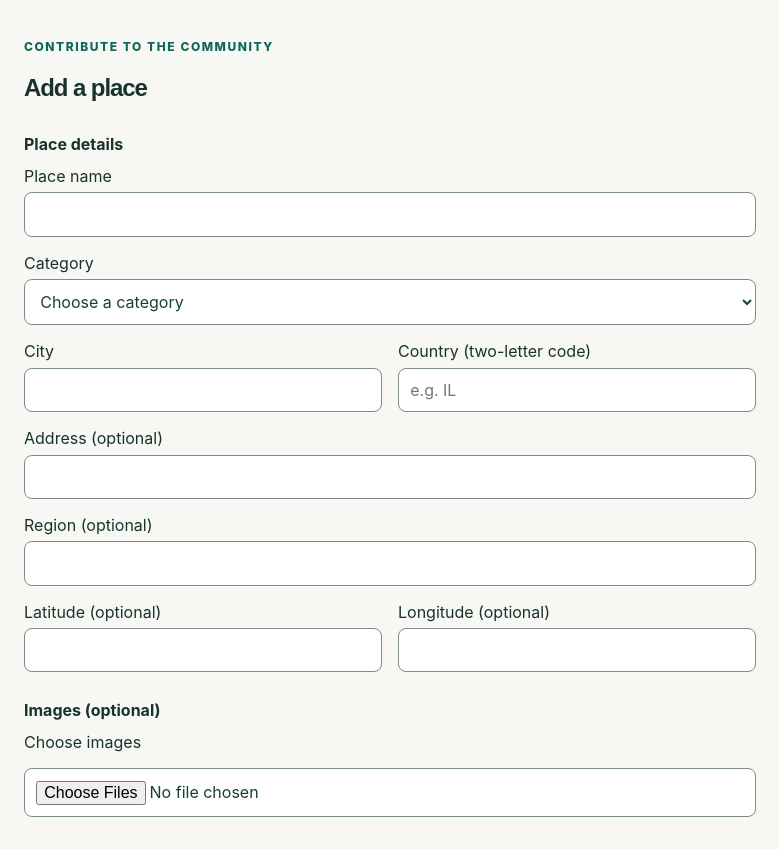
Scenario: duplicate results link to existing places without a client bypass or follow-up writes
Step 1. Type "New place" into the field labelled "Place name" → (390, 214), box [24,192,756,237]
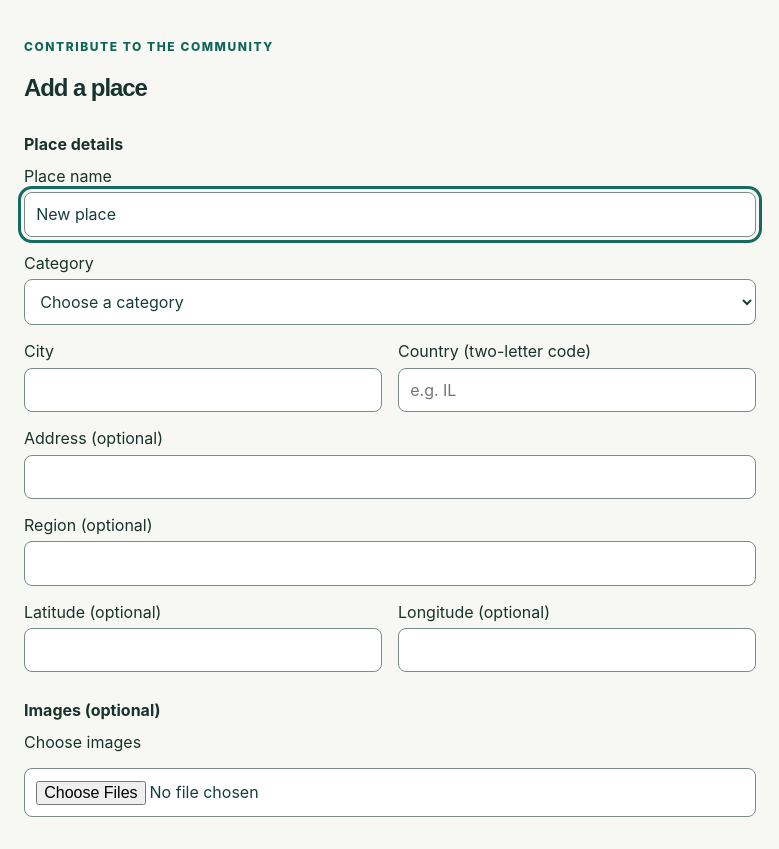
Step 2. Select "Configured category" in the dropdown labelled "Category" → (390, 302), box [24,279,756,325]
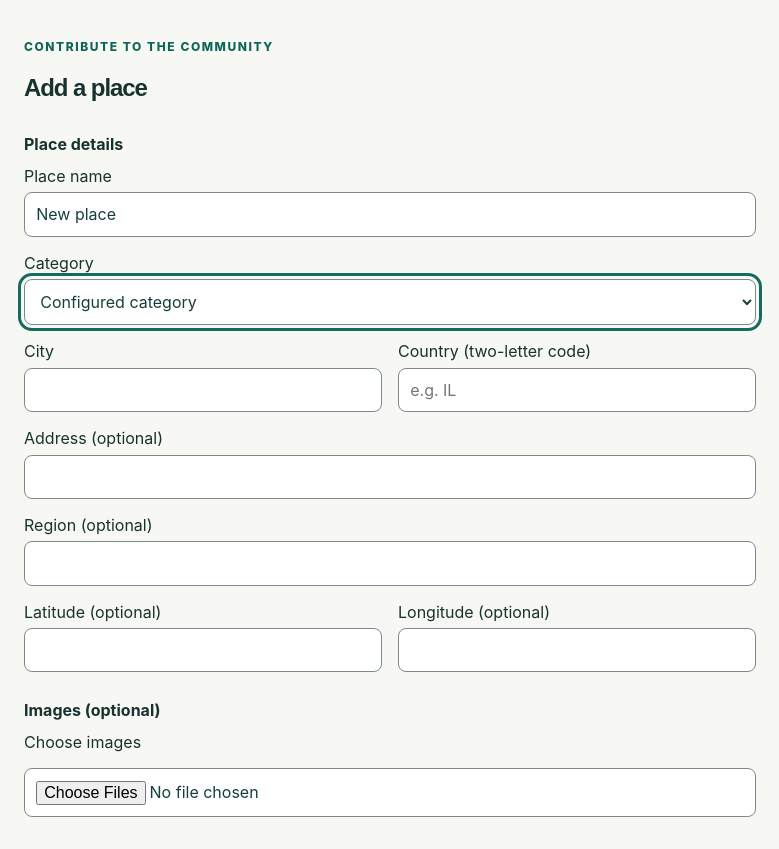
Step 3. Type "Test city" into the field labelled "City" → (203, 390), box [24,368,382,412]
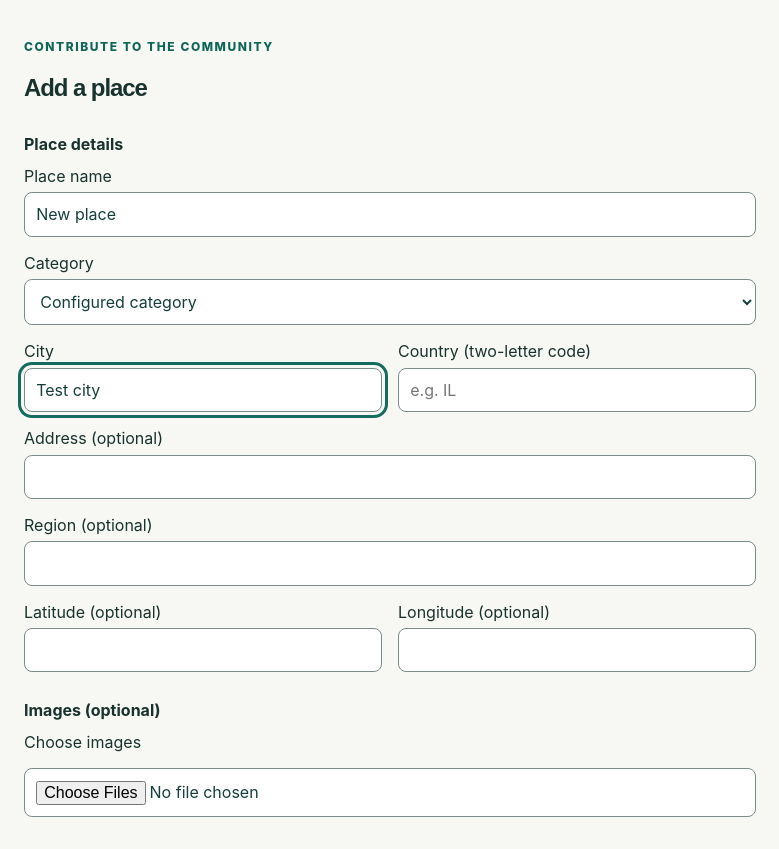
Step 4. Type "IL" into the field labelled "Country (two-letter code)" → (577, 390), box [398,368,756,412]
(page scrolled)
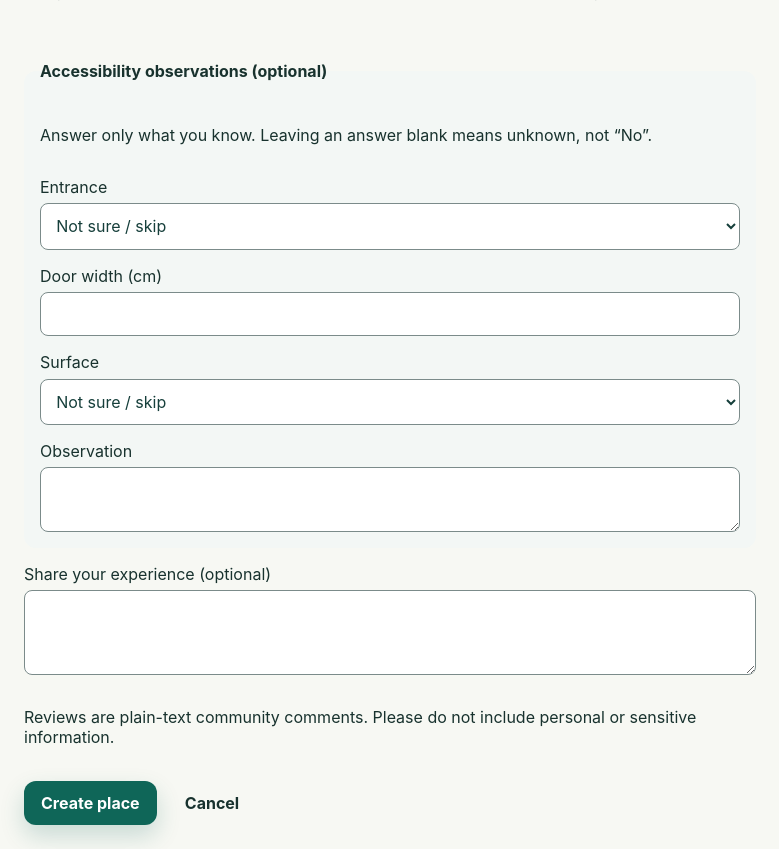
Now the dropdown labelled "Entrance" is shown, box [40,203,740,250]
Step 5. Click the button "Create place" → (90, 803), box [24,781,157,825]
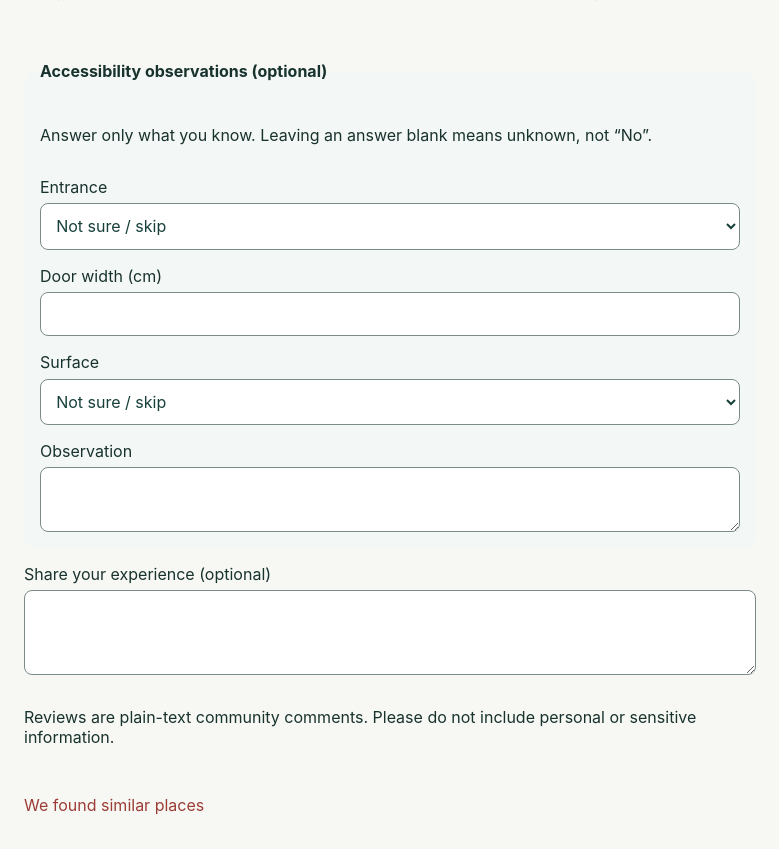
Now the message reads "We found similar places", box [24,795,204,815]
